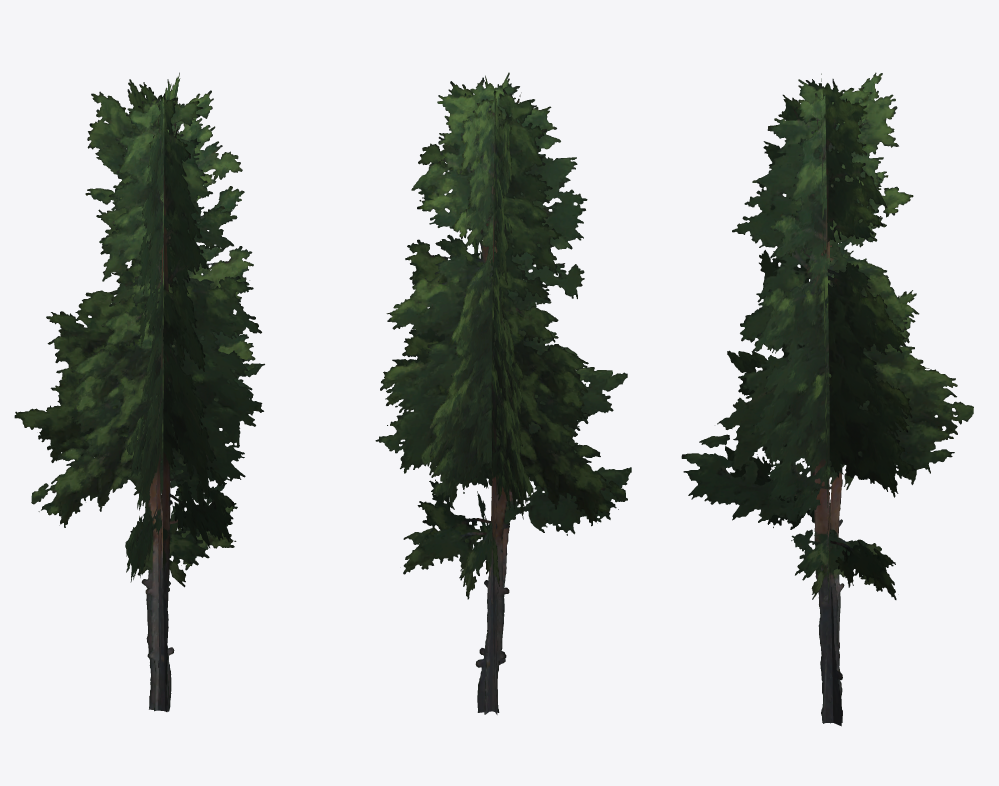
File: Sce_bf_tree01.fbx
The picture shows the model from 3 angles, left to right: view 1: azimuth 30°, elevation 25°; view 2: azimuth 150°, elevation 25°; view 3: azimuth 270°, elevation 25°; orthographic projection. The views are drawn at different scales.
Parts seen in each view (by area): view 1: tree01; view 2: tree01; view 3: tree01.
Part boxes in pixels (bbox=[...]): tree01: bbox=[14, 72, 264, 711]; tree01: bbox=[375, 72, 631, 714]; tree01: bbox=[681, 72, 973, 726].
Bounding box in the file's own units: 13.96 × 30.63 × 13.46.
